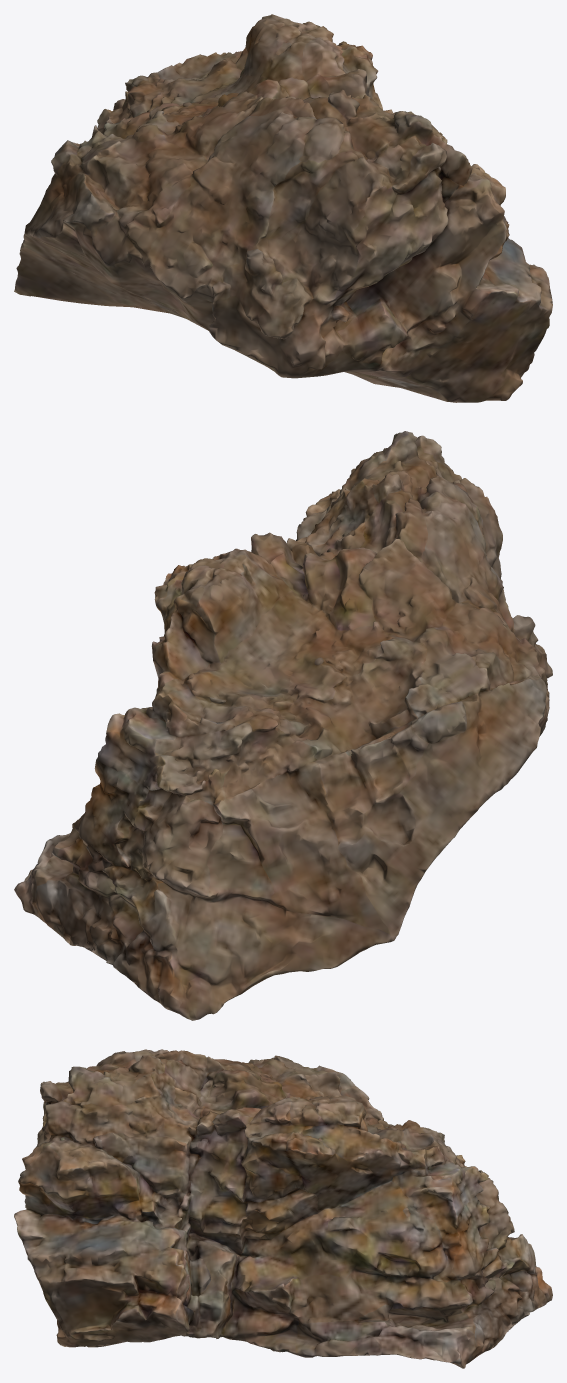
File: rock_c.orig.glb
The picture shows the model from 3 angles, top to bottom: view 1: azimuth 30°, elevation 25°; view 2: azimuth 150°, elevation 25°; view 3: azimuth 270°, elevation 25°; orthographic projection. The views are drawn at different scales.
Parts seen in each view (by area): view 1: boulder_01; view 2: boulder_01; view 3: boulder_01.
Boxes of the visible parts, box(x1,y1,x2,y2) form: boulder_01: box(14, 14, 552, 402); boulder_01: box(14, 431, 552, 1020); boulder_01: box(14, 1049, 552, 1368).
Bounding box in the file's own units: 1.27 × 1 × 1.83.
1 material, 1 textured.
